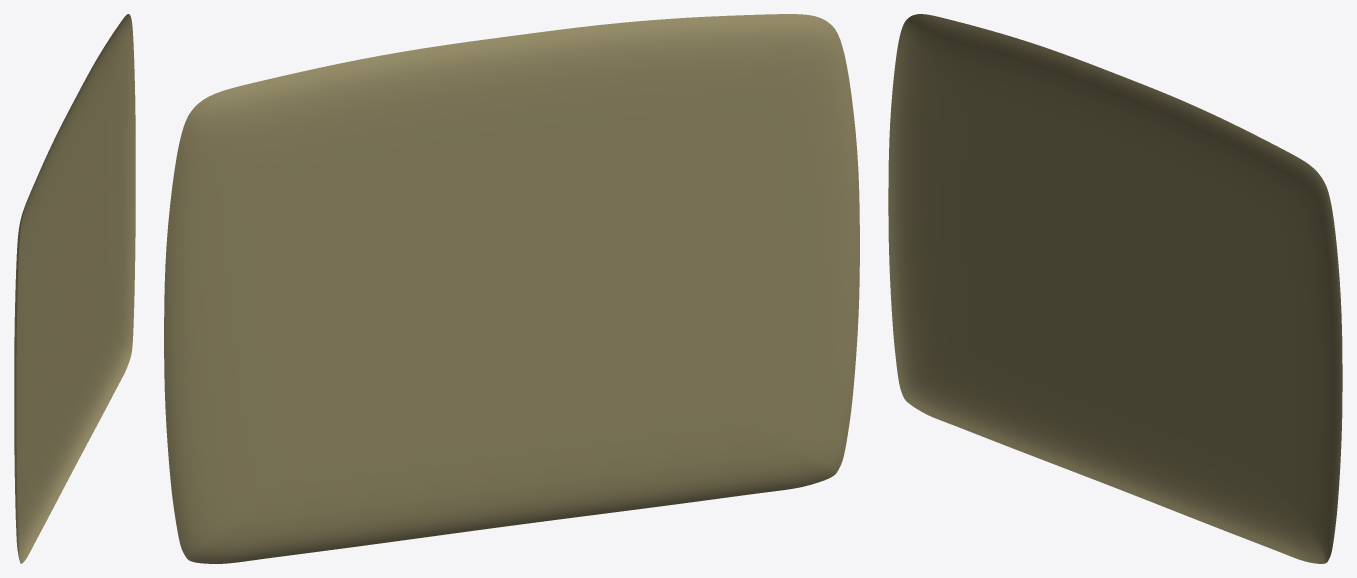
The model's file is RadioPlastic_0001.obj.
The picture shows the model from 3 angles, left to right: view 1: azimuth 30°, elevation 25°; view 2: azimuth 150°, elevation 25°; view 3: azimuth 270°, elevation 25°; orthographic projection. The views are drawn at different scales.
Visible parts, largest first — view 1: RadioPlastic_0001; view 2: RadioPlastic_0001; view 3: RadioPlastic_0001.
Boxes of the visible parts, box(x1,y1,x2,y2) form: RadioPlastic_0001: box(14, 14, 135, 563); RadioPlastic_0001: box(164, 14, 859, 563); RadioPlastic_0001: box(888, 14, 1342, 563).
Bounding box in the file's own units: 0.165 × 0.1808 × 0.1794.
